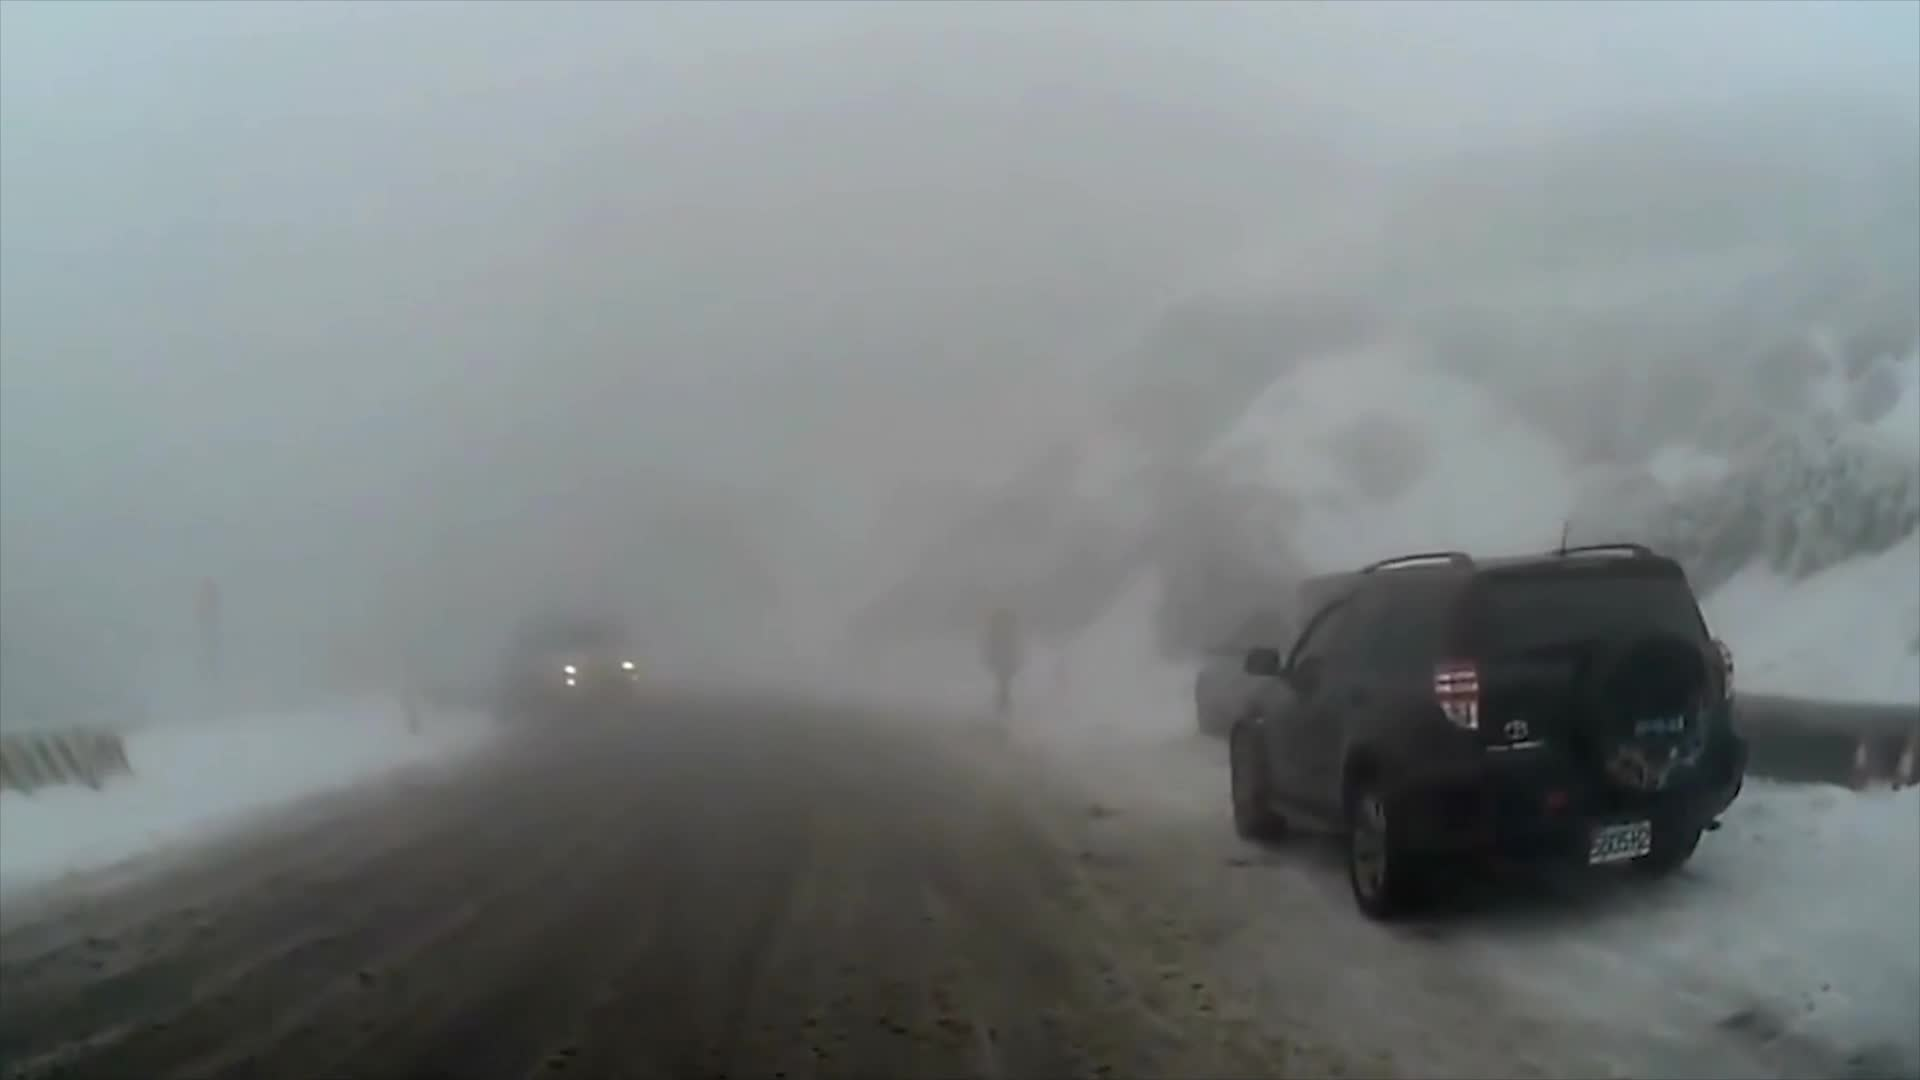vehicle: (1225, 541, 1749, 928), (512, 615, 647, 717)
